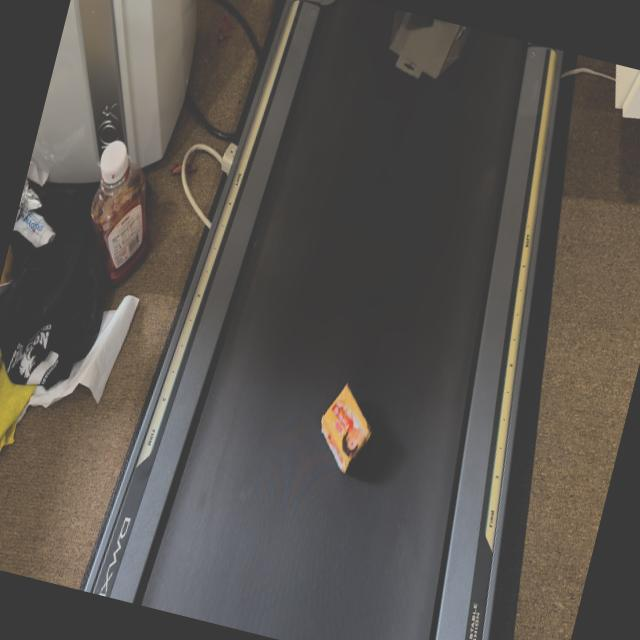Trash: (306, 372, 385, 478)
